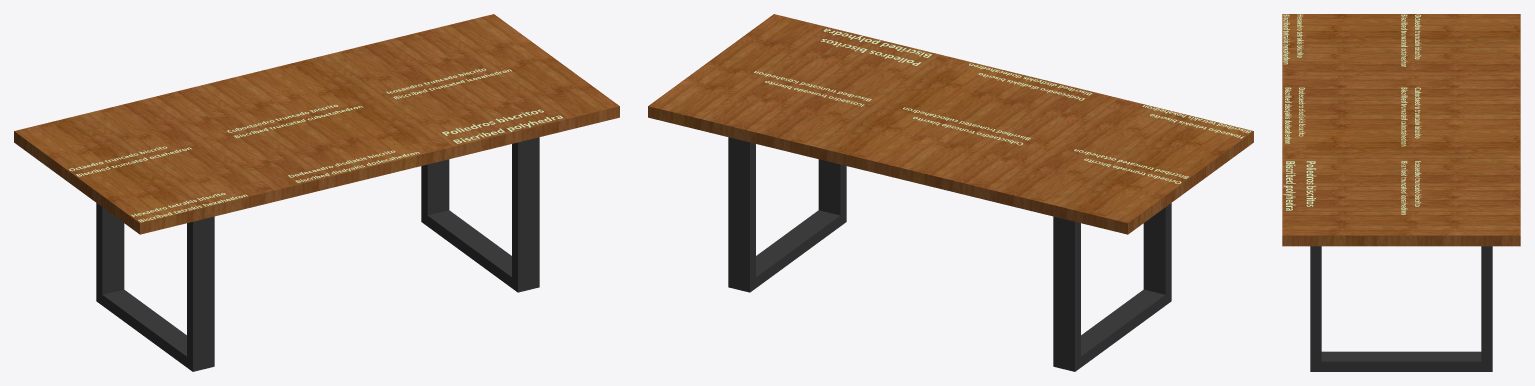
Rendered from biscribed1.glb.
3 views of the same model, side by side, from view 1: azimuth 30°, elevation 25°; view 2: azimuth 150°, elevation 25°; view 3: azimuth 270°, elevation 25° (orthographic). The views are drawn at different scales.
Visible parts, largest first — view 1: object 1, Composant#1 (×2), Poliedros biscri, Dodecaedro disdi, Cuboctaedro trun, Icosaedro trunca, Octaedro truncad; view 2: object 1, Composant#1 (×2), Poliedros biscri, Cuboctaedro trun, Dodecaedro disdi, Icosaedro trunca, Octaedro truncad, Hexaedro tetraki; view 3: object 1, Composant#1, Poliedros biscri, Cuboctaedro trun, Dodecaedro disdi, Icosaedro trunca, Octaedro truncad, Hexaedro tetraki.
Boxes of the visible parts, x1,y1,x2,y2 form: object 1: (14,14,619,234); Composant#1 (×2): (96,137,539,371); Poliedros biscri: (442,109,563,143); Dodecaedro disdi: (288,150,419,182); Cuboctaedro trun: (227,104,362,137); Icosaedro trunca: (386,68,511,99); Octaedro truncad: (69,146,191,176); object 1: (648,14,1253,234); Composant#1 (×2): (728,137,1171,371); Poliedros biscri: (821,28,932,65); Cuboctaedro trun: (903,107,1030,145); Dodecaedro disdi: (969,63,1091,100); Icosaedro trunca: (754,71,871,106); Octaedro truncad: (1074,149,1188,183); Hexaedro tetraki: (1142,105,1250,138); object 1: (1282,14,1520,246); Composant#1: (1310,246,1492,371); Poliedros biscri: (1283,161,1316,210); Cuboctaedro trun: (1401,87,1421,146); Dodecaedro disdi: (1284,87,1305,143); Icosaedro trunca: (1401,161,1421,214); Octaedro truncad: (1401,14,1421,66); Hexaedro tetraki: (1283,14,1303,64).
Bounding box in the file's own units: 2.2 × 0.7711 × 1.
Materials: 3 (1 with a texture image).
